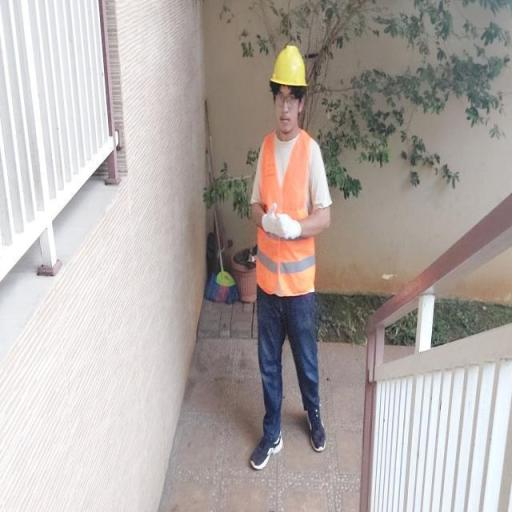Person: (226, 44, 352, 474)
gloves: (262, 206, 302, 242)
goggles: (268, 88, 306, 110)
helmet: (266, 44, 313, 90)
vest: (256, 124, 318, 299)
